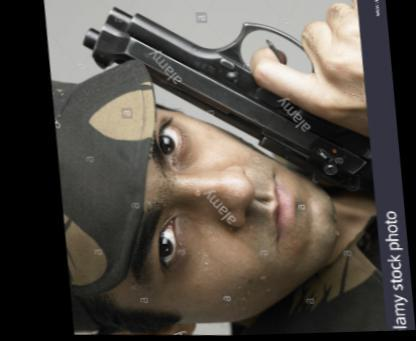pistol: (71, 0, 375, 199)
